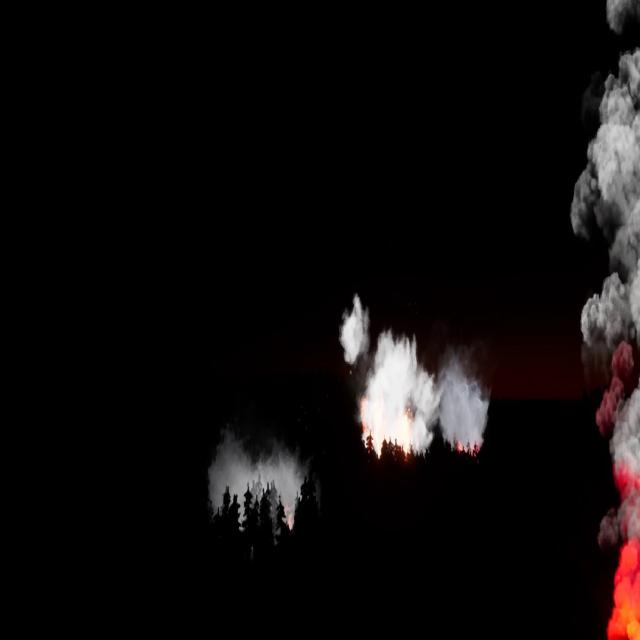fire: (606, 538, 639, 639)
smoke: (568, 6, 640, 639), (338, 291, 492, 464), (208, 428, 308, 534)
